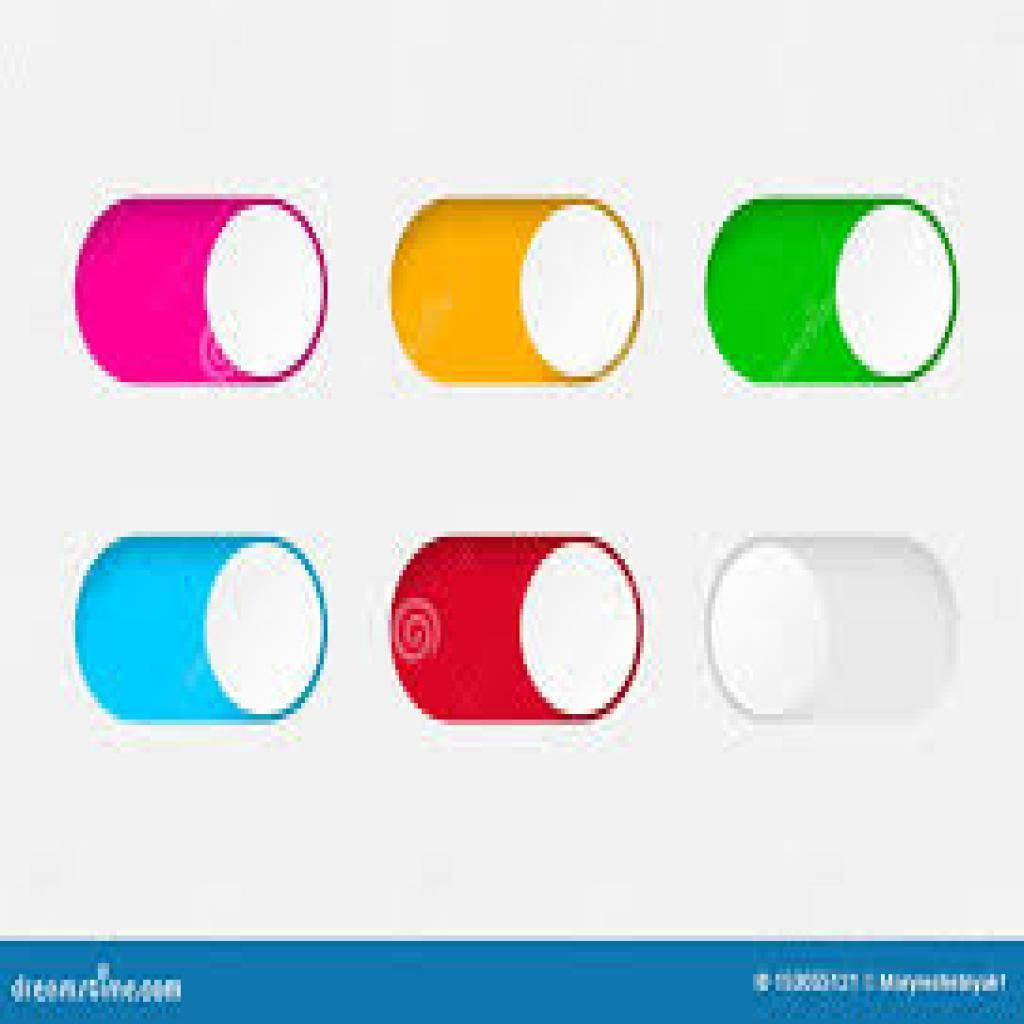switch: (68, 191, 340, 393), (73, 529, 340, 729), (704, 534, 965, 736), (702, 194, 964, 394), (383, 532, 647, 729), (388, 197, 648, 393)
